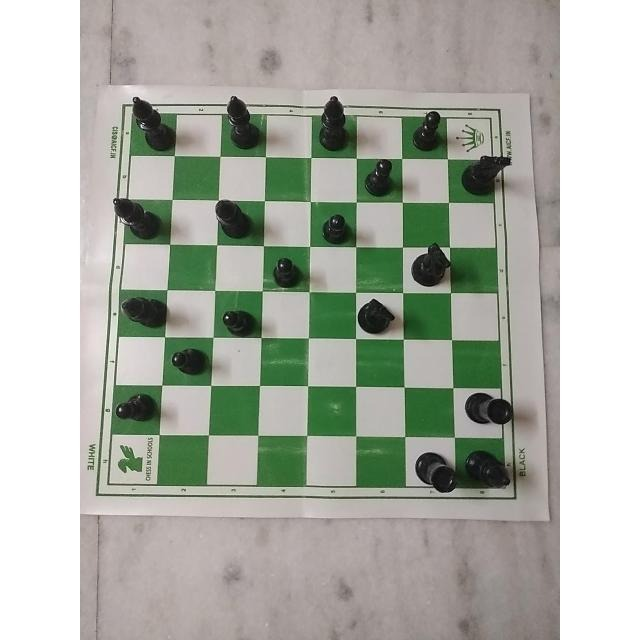black-bishop: (126, 88, 180, 154), (218, 92, 267, 158), (113, 191, 169, 242), (309, 89, 351, 155), (464, 443, 513, 499), (117, 290, 169, 342), (213, 196, 261, 247)
black-knight: (454, 150, 515, 196), (358, 293, 398, 343), (406, 246, 452, 288)
black-pawn: (309, 204, 359, 251), (352, 156, 400, 204), (164, 337, 216, 378), (408, 104, 447, 154), (218, 300, 262, 340), (110, 392, 160, 426), (268, 249, 304, 293)
black-rook: (458, 391, 518, 443), (414, 443, 462, 499)
